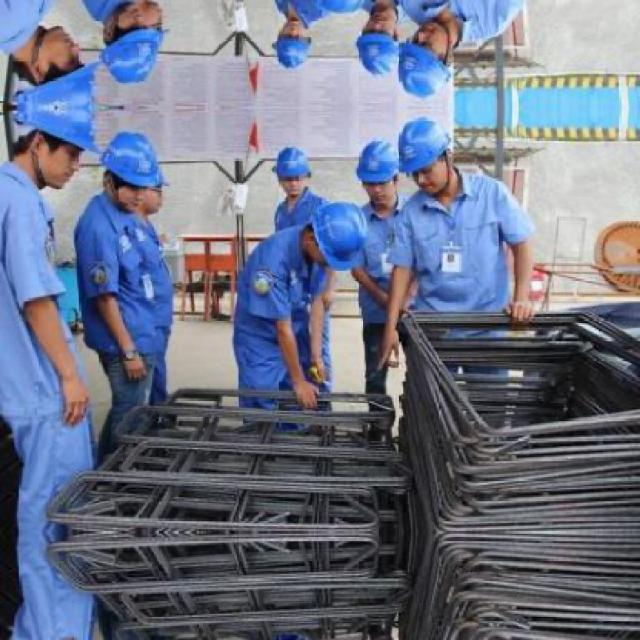helmet: (12, 109, 102, 183), (12, 29, 102, 103), (102, 1, 169, 90), (102, 122, 169, 210), (297, 203, 374, 268), (397, 109, 455, 189), (397, 23, 455, 103), (354, 130, 400, 208), (354, 4, 400, 82), (274, 140, 314, 197), (274, 17, 314, 74)
